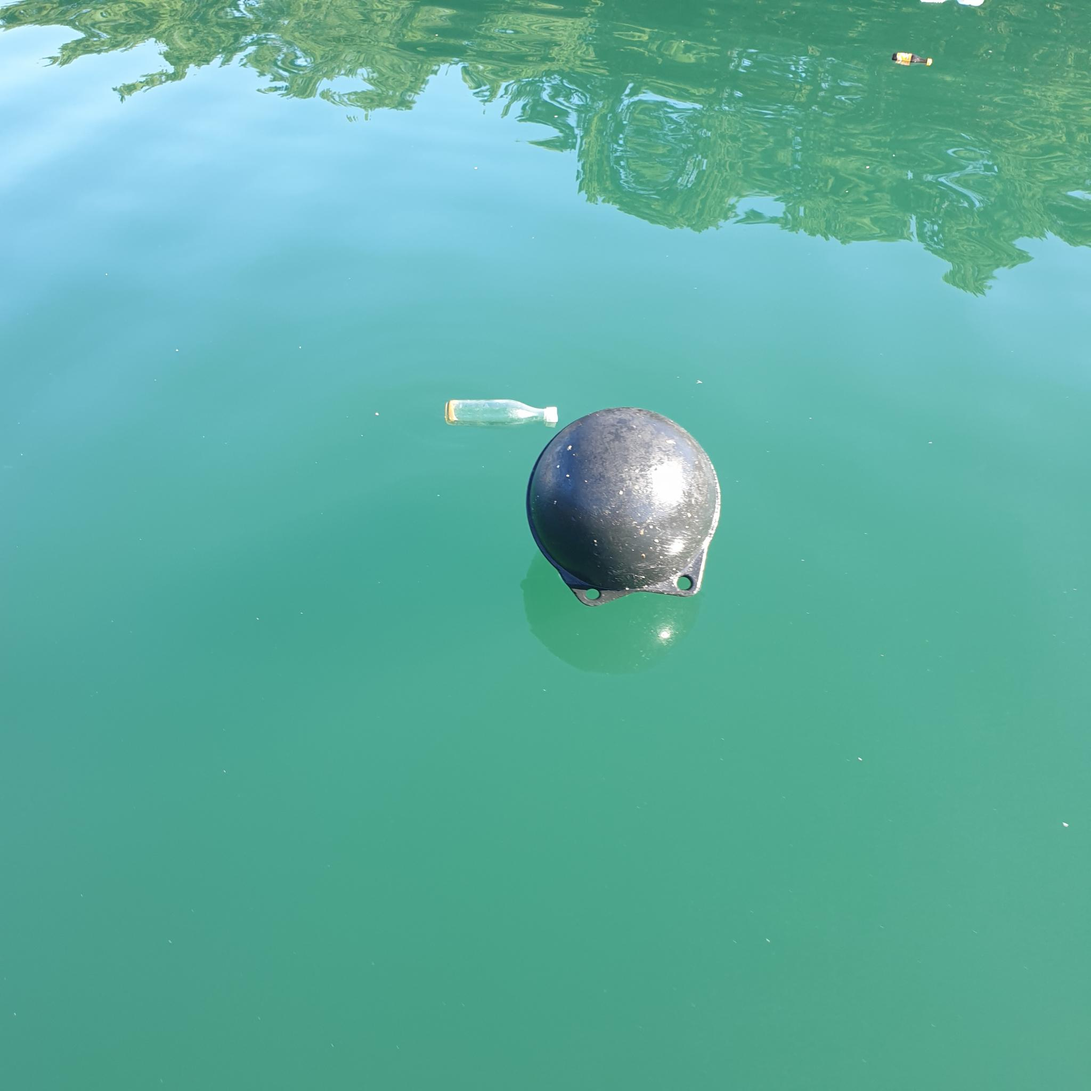sampah_terapung: (526, 407, 721, 608), (445, 401, 559, 429), (892, 53, 933, 66)
